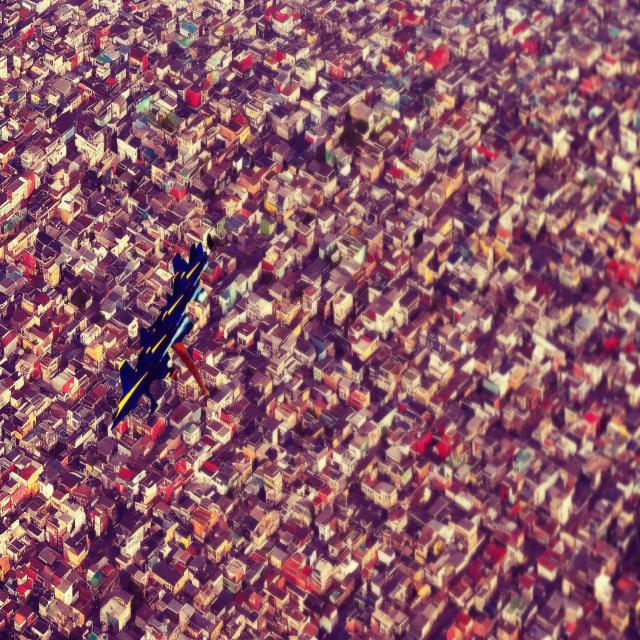airplane: (110, 239, 211, 429)
